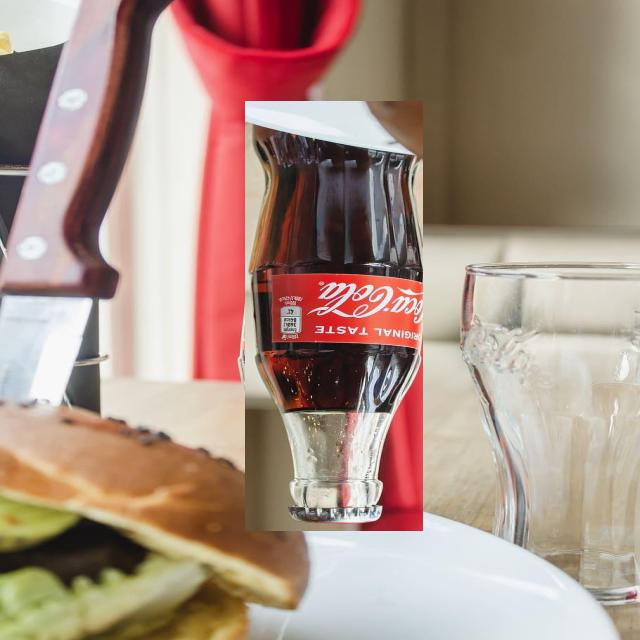coca-cola: (245, 101, 423, 532)
